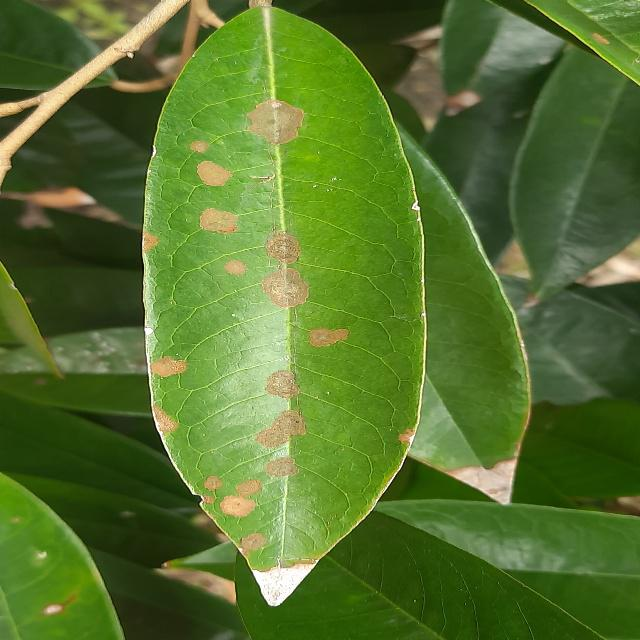Algal Leaf Spot: (137, 0, 438, 615)
